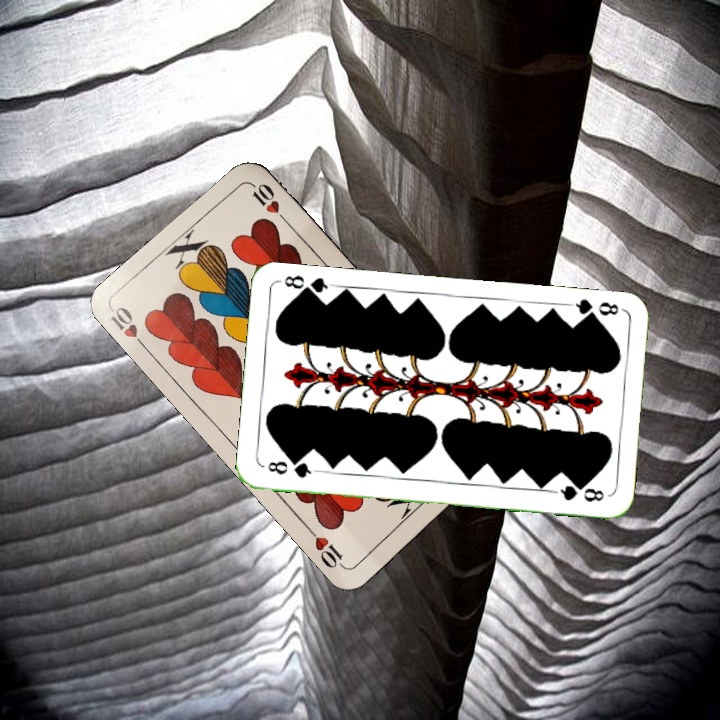G8: (565, 295, 624, 324), (263, 457, 319, 481)
H10: (106, 302, 152, 354)
